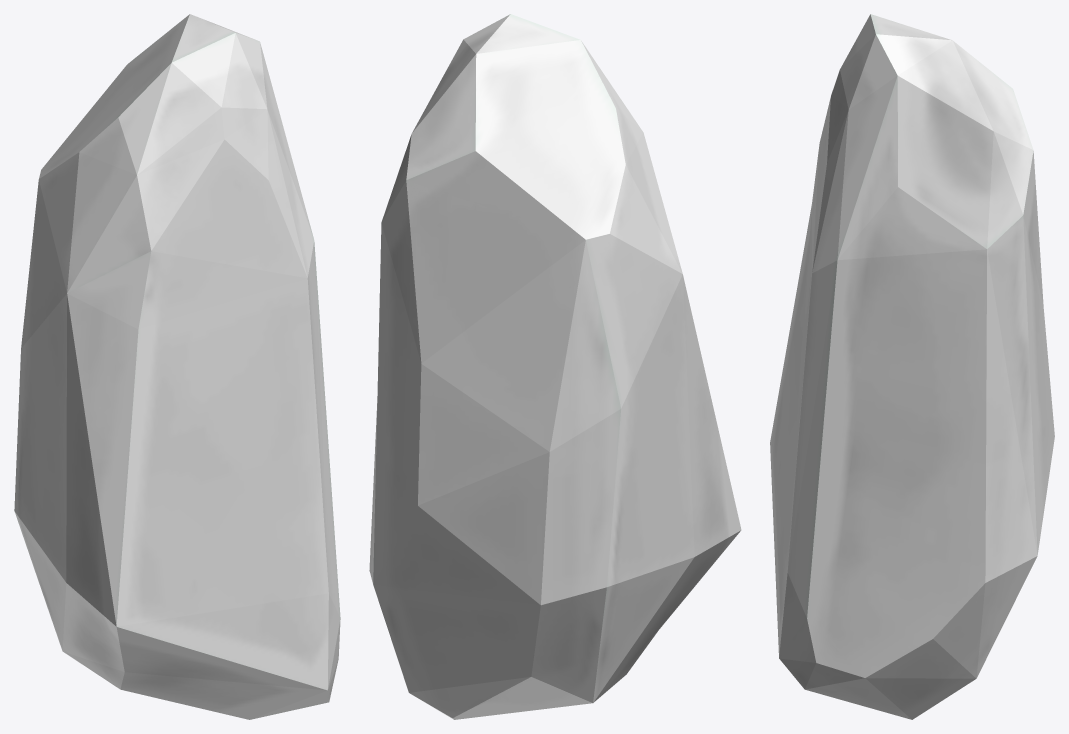
File: Mineral_03.fbx
The picture shows the model from 3 angles, left to right: view 1: azimuth 30°, elevation 25°; view 2: azimuth 150°, elevation 25°; view 3: azimuth 270°, elevation 25°; orthographic projection. The views are drawn at different scales.
Parts seen in each view (by area): view 1: Mineral_03; view 2: Mineral_03; view 3: Mineral_03.
Part boxes in pixels (bbox=[...]): Mineral_03: bbox=[14, 14, 340, 719]; Mineral_03: bbox=[369, 14, 741, 719]; Mineral_03: bbox=[770, 14, 1054, 719].
Bounding box in the file's own units: 37.47 × 96.22 × 37.17.
